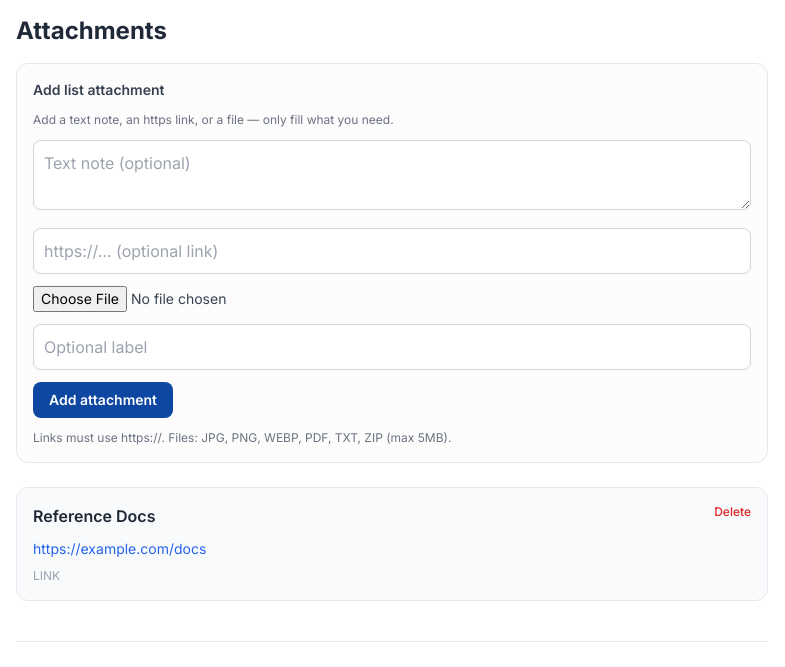
Test: ListDetail › creates a link attachment from the attachments section
(page scrolled)
Check: the heading "Attachments" is shown, box [16,16,167,45]
Type "API Guide" into the field with placeholder "Optional label" at [392, 347], box [33,324,751,370]
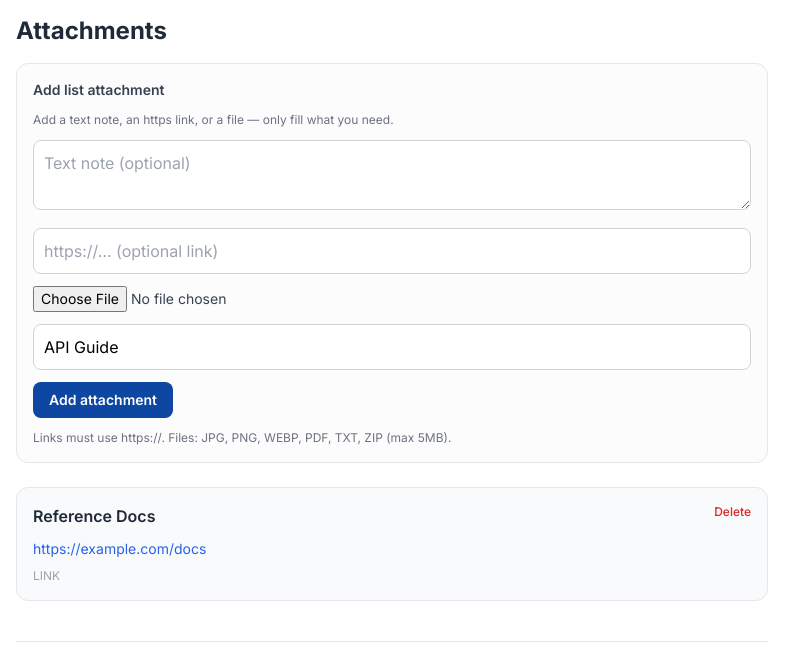
Type "https://example.com/api-guide" into the field with placeholder "https://… (optional link)" at [392, 251], box [33,228,751,274]
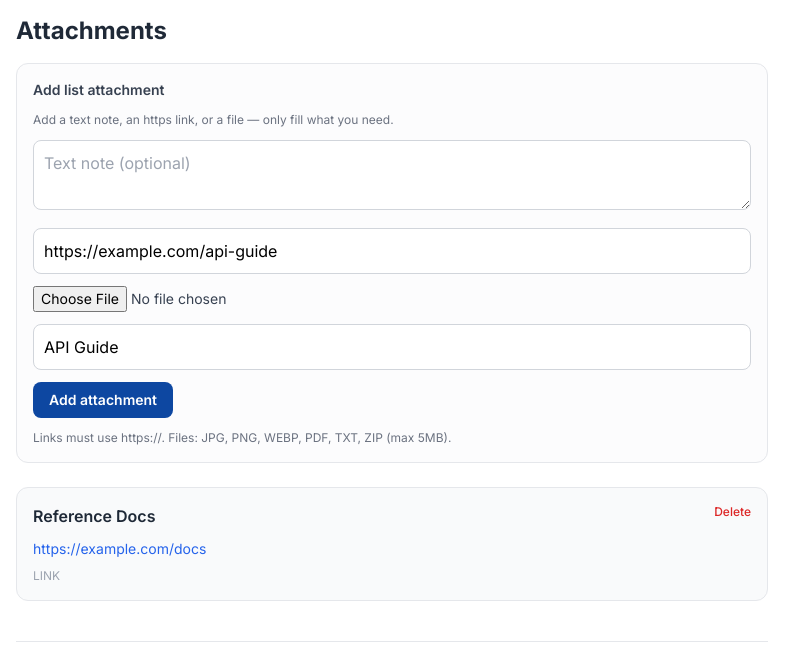
Click the button "Add attachment" at [103, 400], box [33,382,173,418]
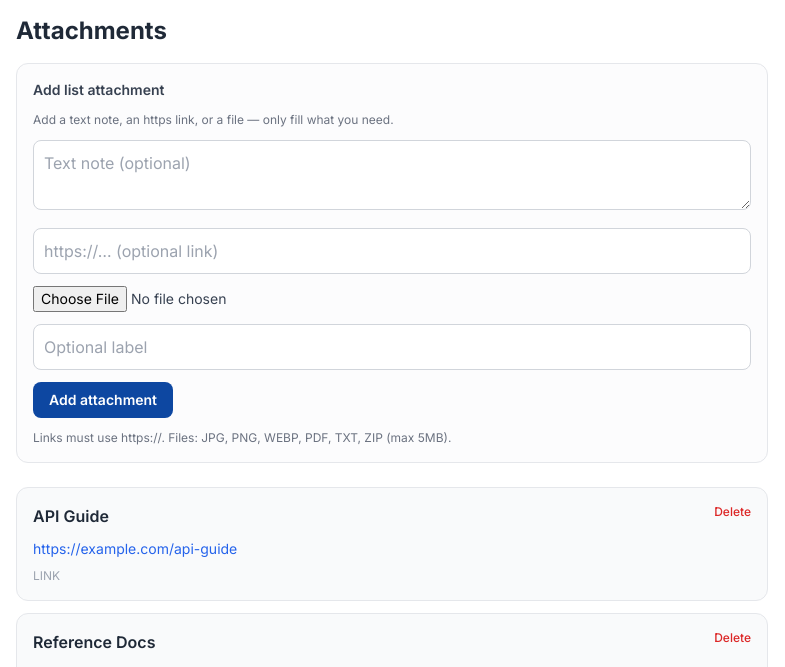
Check: the text "API Guide" is shown, box [33,506,109,526]
